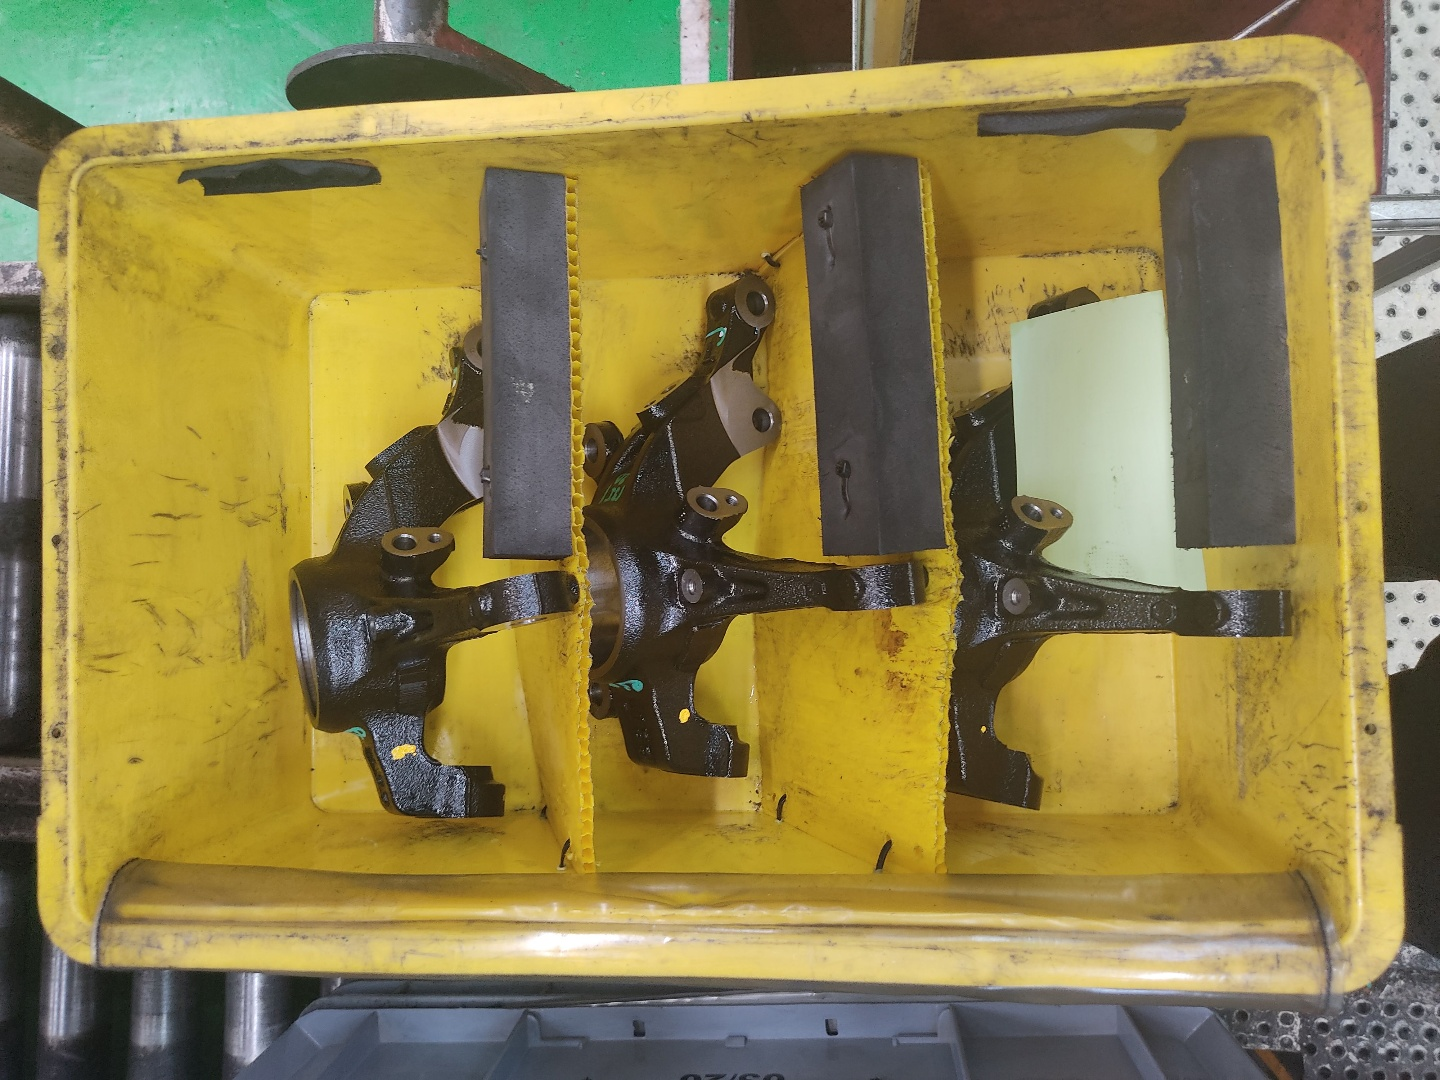abs-lh: (940, 273, 1310, 818), (579, 265, 937, 791), (276, 299, 586, 825)
